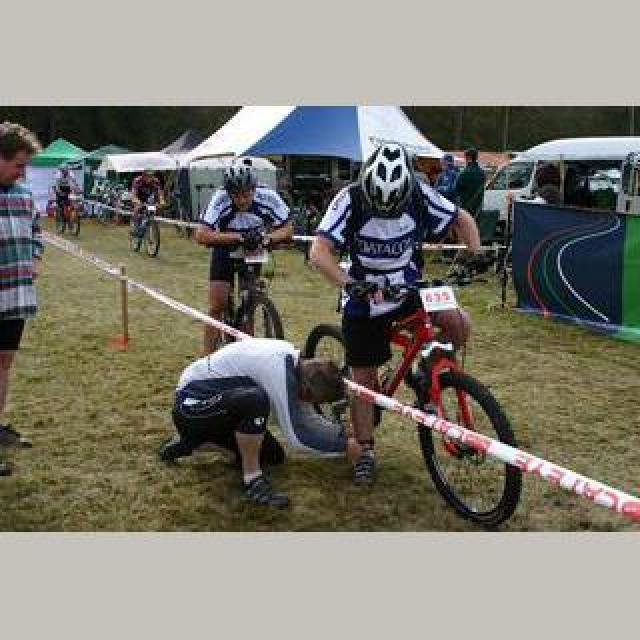MC-Bike: (306, 134, 490, 496), (160, 320, 362, 508), (196, 162, 292, 342), (0, 120, 46, 454), (456, 148, 486, 228), (130, 170, 162, 242), (54, 172, 82, 234), (434, 154, 458, 194)
Person: (294, 278, 514, 522), (210, 240, 288, 344), (128, 196, 164, 256), (52, 190, 82, 236)
Truck-Bike: (480, 136, 640, 244)
